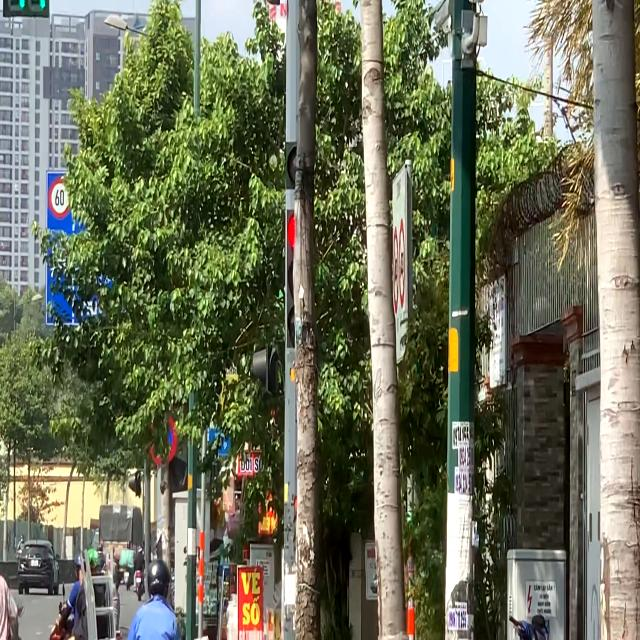P.127: (48, 177, 72, 219)
